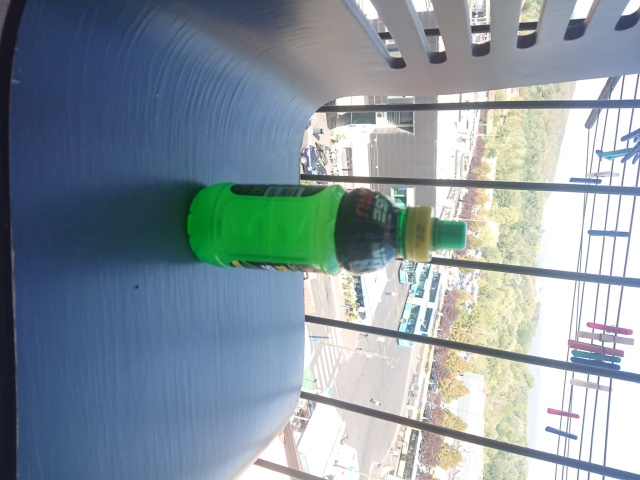Vindi Iso Sport Lemon-Grapefruit 500mL: (183, 180, 470, 278)
